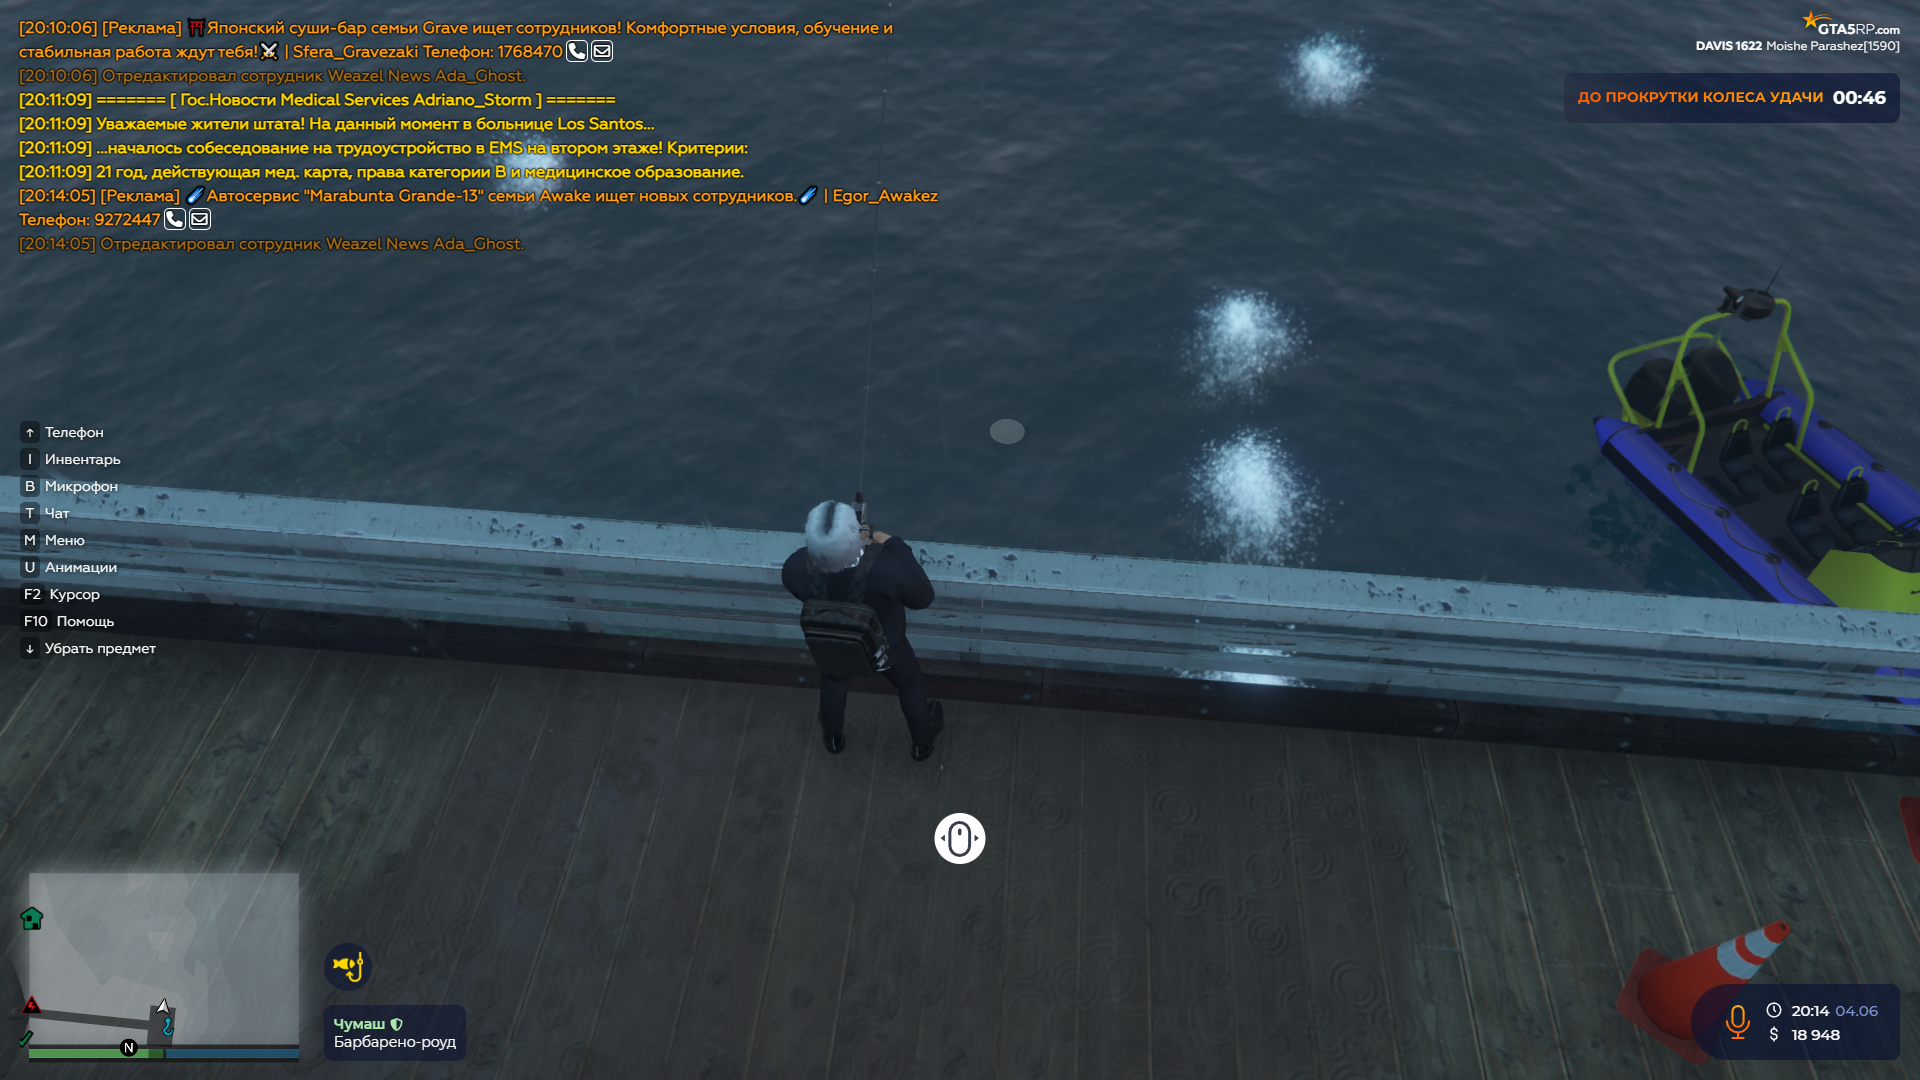circle: (986, 417, 1029, 446)
